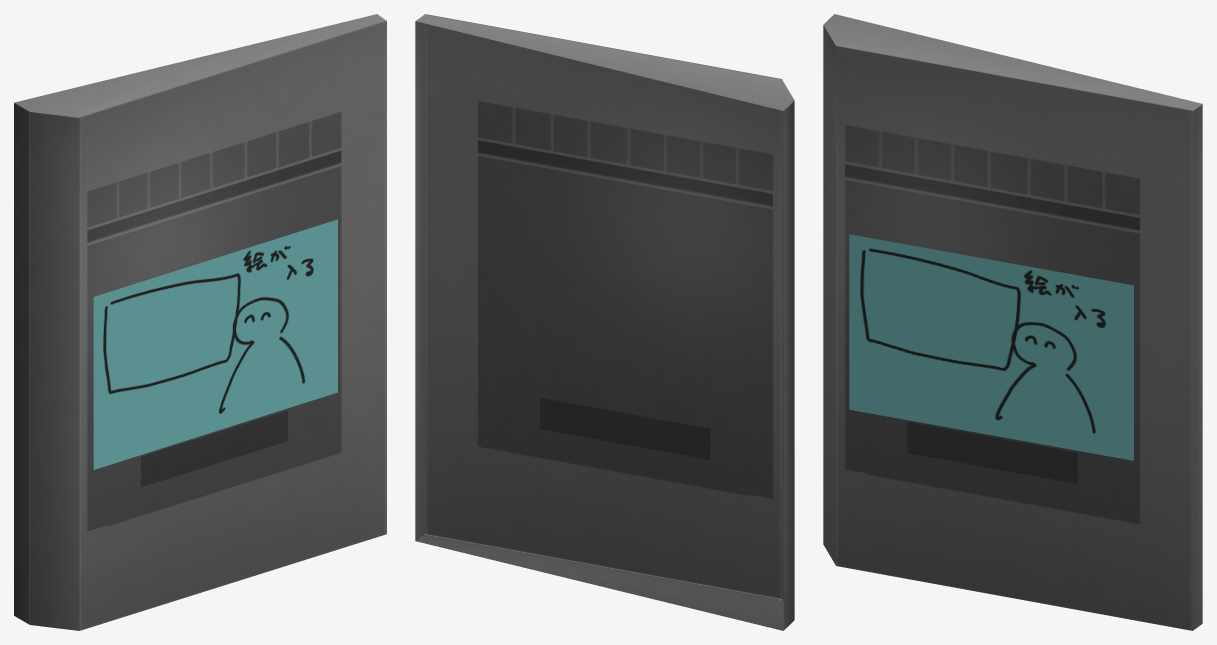
File: BgMD_goto_Monitor_Kabe.fbx
3 views of the same model, side by side, from view 1: azimuth 30°, elevation 25°; view 2: azimuth 150°, elevation 25°; view 3: azimuth 330°, elevation 25° (orthographic).
Visible parts, largest first — view 1: BgMD_goto_Monitor_Kabe; view 2: BgMD_goto_Monitor_Kabe; view 3: BgMD_goto_Monitor_Kabe.
Part boxes in pixels (x1,y1,x2,y2): BgMD_goto_Monitor_Kabe: (14,14,386,630); BgMD_goto_Monitor_Kabe: (415,14,794,630); BgMD_goto_Monitor_Kabe: (823,14,1202,630).
Size of the model in its own units: 1559 by 2104 by 242.
Materials: 1 (1 with a texture image).
